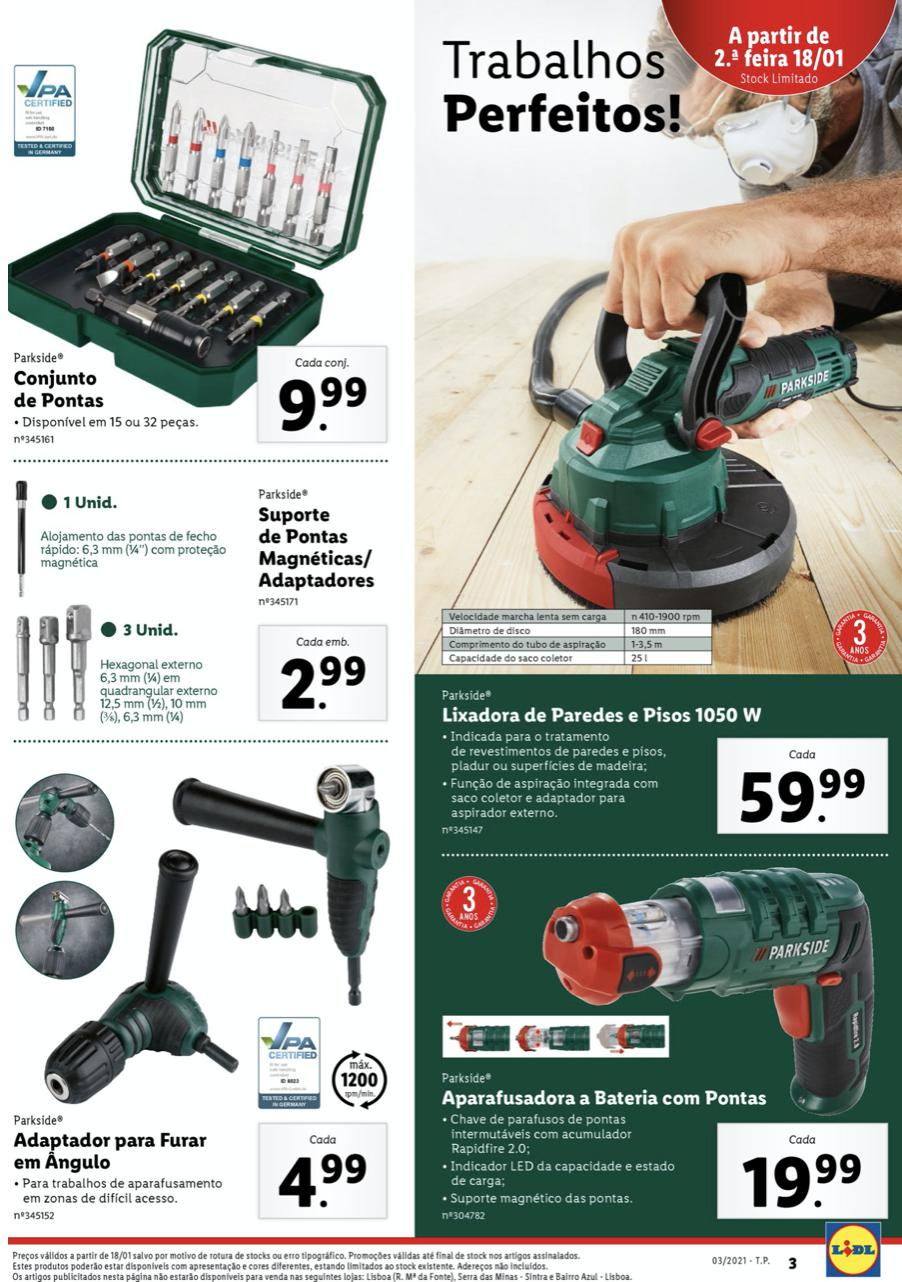name: (257, 502, 395, 596), (14, 1127, 212, 1178), (441, 704, 774, 731), (438, 1089, 776, 1115), (16, 365, 111, 413)
price: (733, 759, 871, 832), (738, 1151, 869, 1211), (269, 370, 376, 437), (274, 1153, 371, 1218), (274, 653, 366, 711)
product: (420, 211, 901, 845), (12, 754, 400, 1232), (422, 865, 898, 1238), (1, 34, 403, 453), (14, 473, 404, 734)
